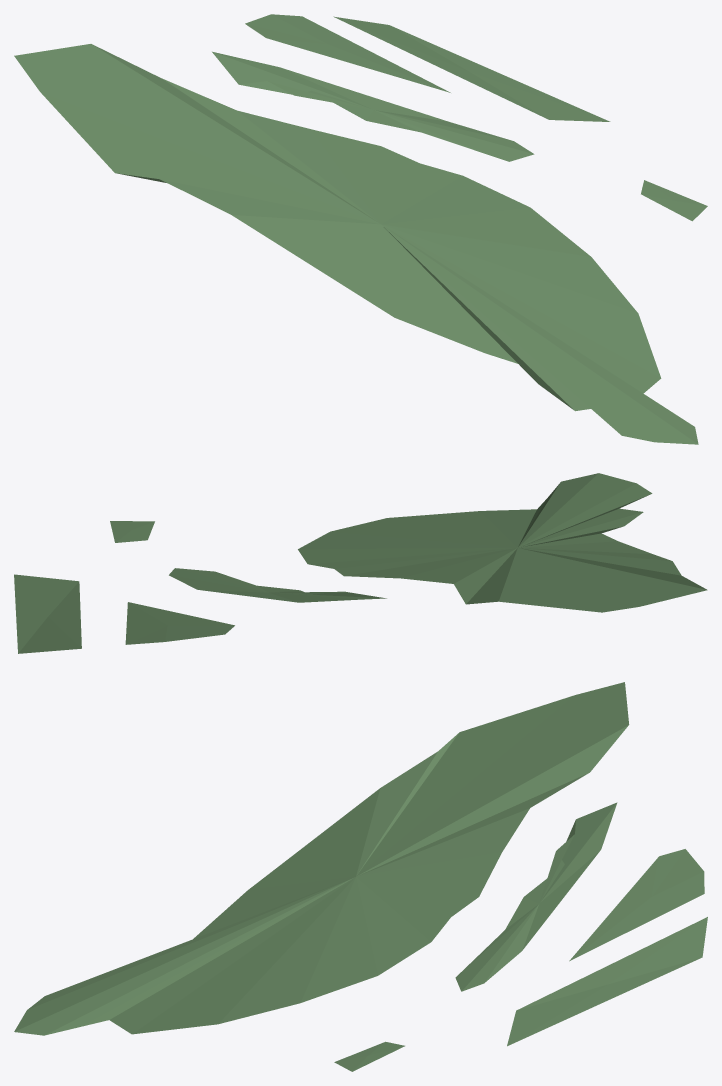
Rendered from c_1672_17822_forest.glb.
3 views of the same model, one above another, from view 1: azimuth 30°, elevation 25°; view 2: azimuth 150°, elevation 25°; view 3: azimuth 270°, elevation 25° (orthographic). The views are drawn at different scales.
Visible parts, largest first — view 1: geometry_0; view 2: geometry_0; view 3: geometry_0.
Part boxes in pixels (<box>): geometry_0: <box>14,14,707,444</box>; geometry_0: <box>14,473,707,653</box>; geometry_0: <box>14,682,707,1071</box>.
Size of the model in its own units: 301 by 118 by 372.
